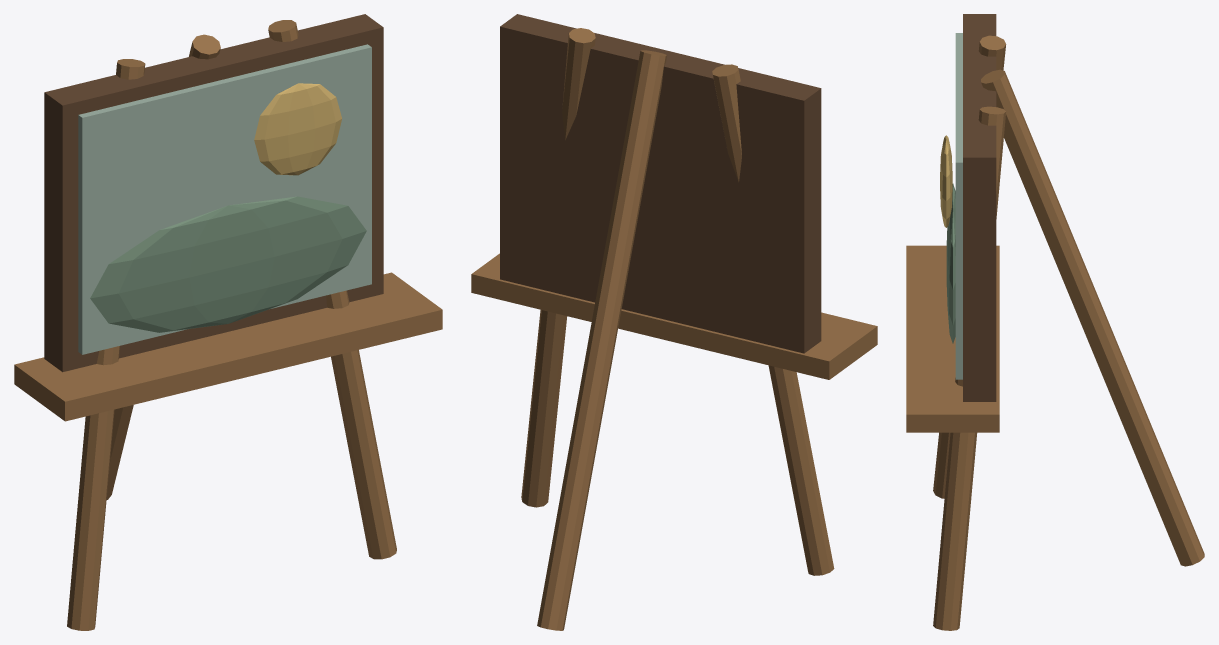
Rendered from paint-easel.glb.
3 views of the same model, side by side, from view 1: azimuth 30°, elevation 25°; view 2: azimuth 150°, elevation 25°; view 3: azimuth 270°, elevation 25° (orthographic). The views are drawn at different scales.
Parts seen in each view (by area): view 1: paint-easel_Discovery_Mesh, discovery_Motion.016_Mesh; view 2: paint-easel_Discovery_Mesh; view 3: paint-easel_Discovery_Mesh, discovery_Motion.016_Mesh.
Boxes of the visible parts, x1,y1,x2,y2 form: paint-easel_Discovery_Mesh: [14, 14, 442, 630]; discovery_Motion.016_Mesh: [254, 83, 342, 175]; paint-easel_Discovery_Mesh: [471, 14, 877, 630]; paint-easel_Discovery_Mesh: [906, 14, 1204, 630]; discovery_Motion.016_Mesh: [940, 135, 952, 227].
Bounding box in the file's own units: 1.2 × 1.63 × 0.8956.
